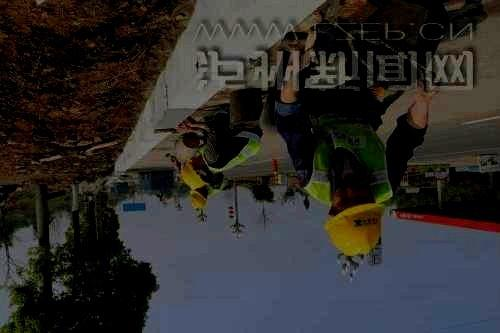helmet: (321, 172, 387, 256), (188, 187, 209, 209)
